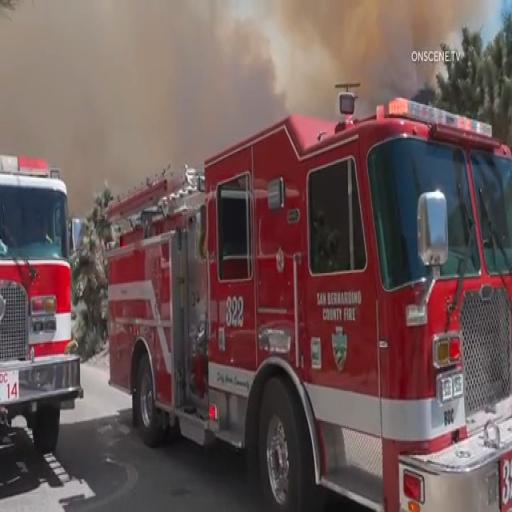smoke: (171, 6, 310, 120)
